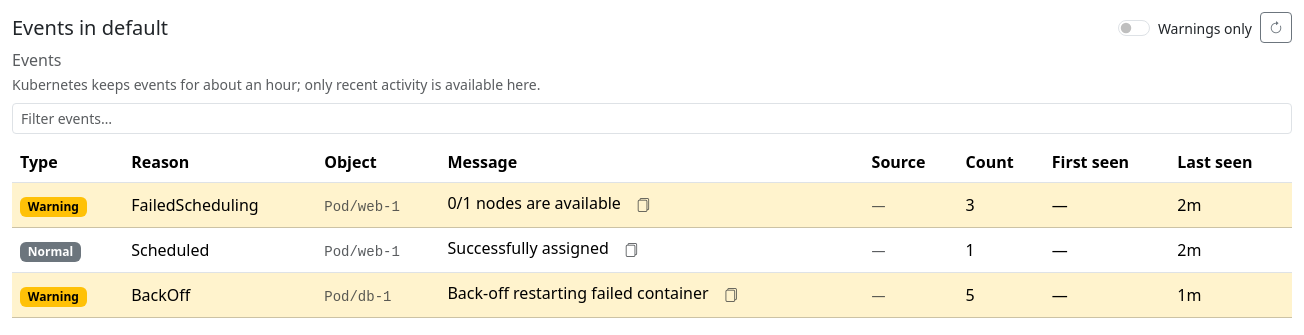
Test: EventsView  filters › shows a no-match message when nothing matches
Step 1. Type "zzz-none" into the search field with id "event-filter" → (652, 119), box [12,103,1292,134]
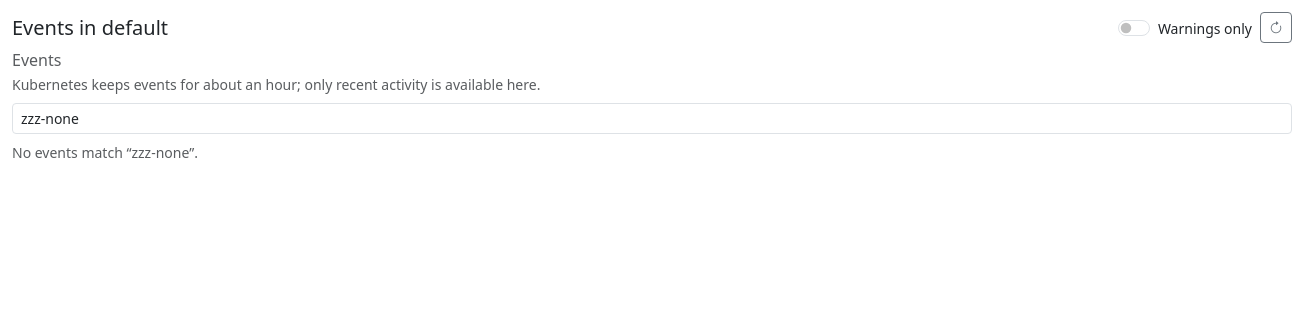
Expected: the text "No events match" is shown, [12,143,198,162]
